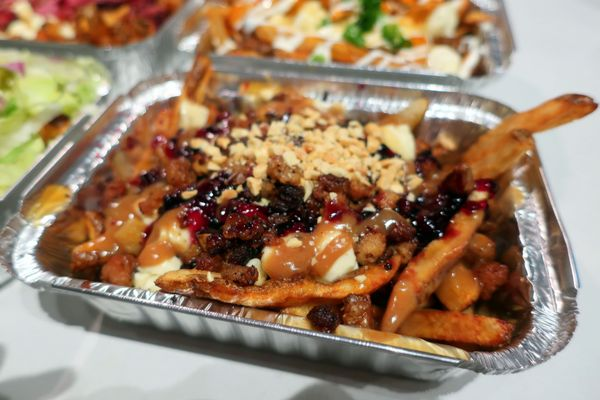sushi: (6, 20, 581, 376)
